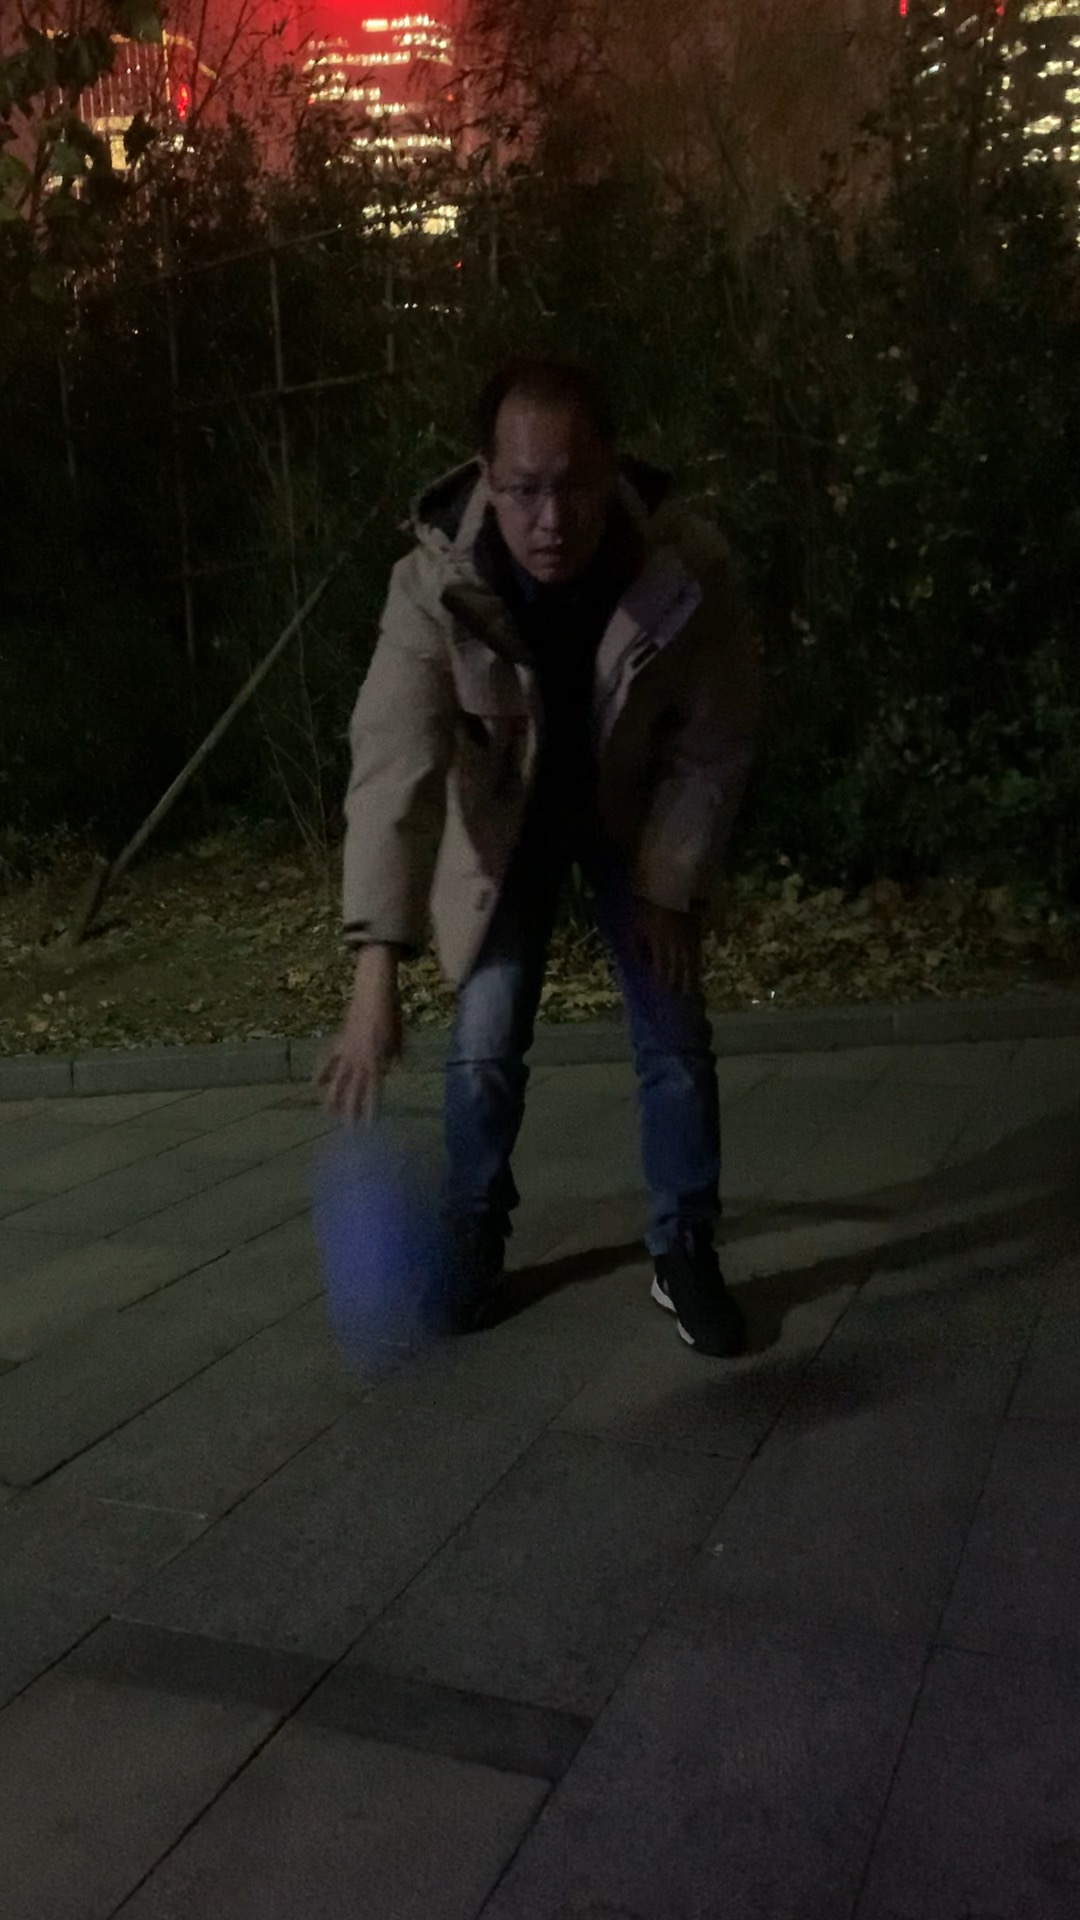ball: (315, 1156, 505, 1333)
